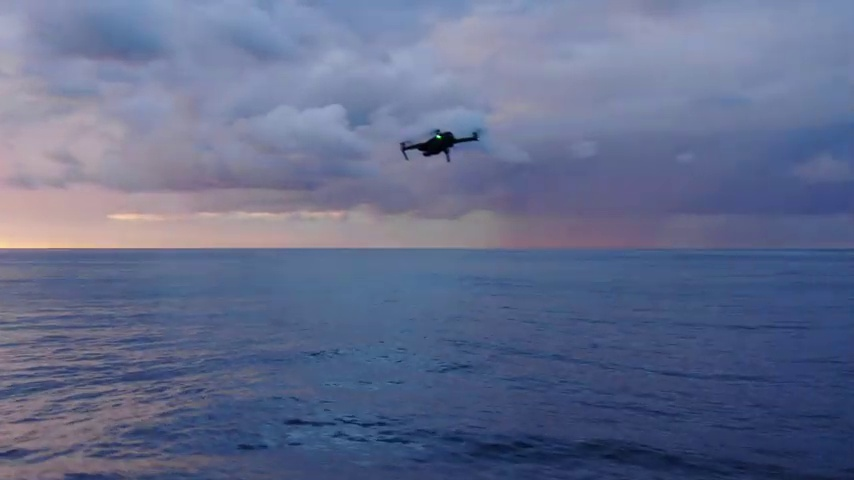drone: (399, 129, 479, 163)
